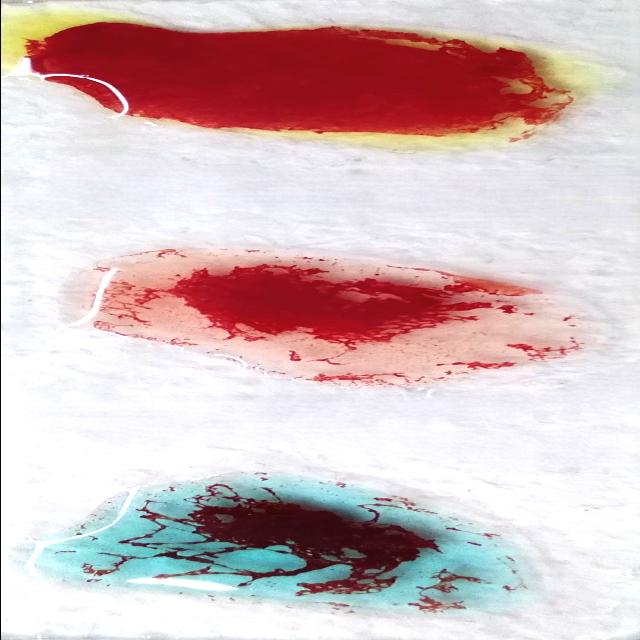A: (31, 476, 530, 616)
B: (10, 27, 586, 131)
D: (77, 264, 602, 380)
